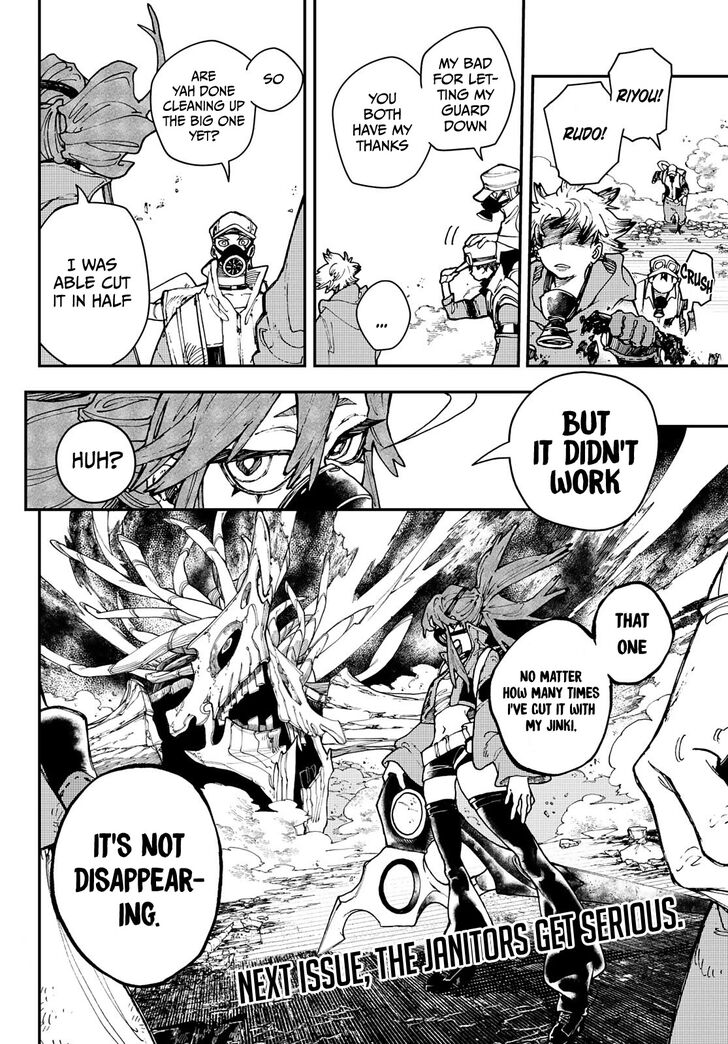bubble: (52, 765, 221, 986), (473, 372, 659, 530), (40, 186, 149, 367), (489, 618, 613, 774), (152, 40, 256, 181), (332, 57, 431, 188), (421, 27, 514, 160), (594, 582, 674, 685), (544, 82, 624, 185), (56, 419, 136, 502), (609, 47, 672, 150), (357, 281, 411, 350), (247, 48, 303, 111), (678, 249, 714, 335)
